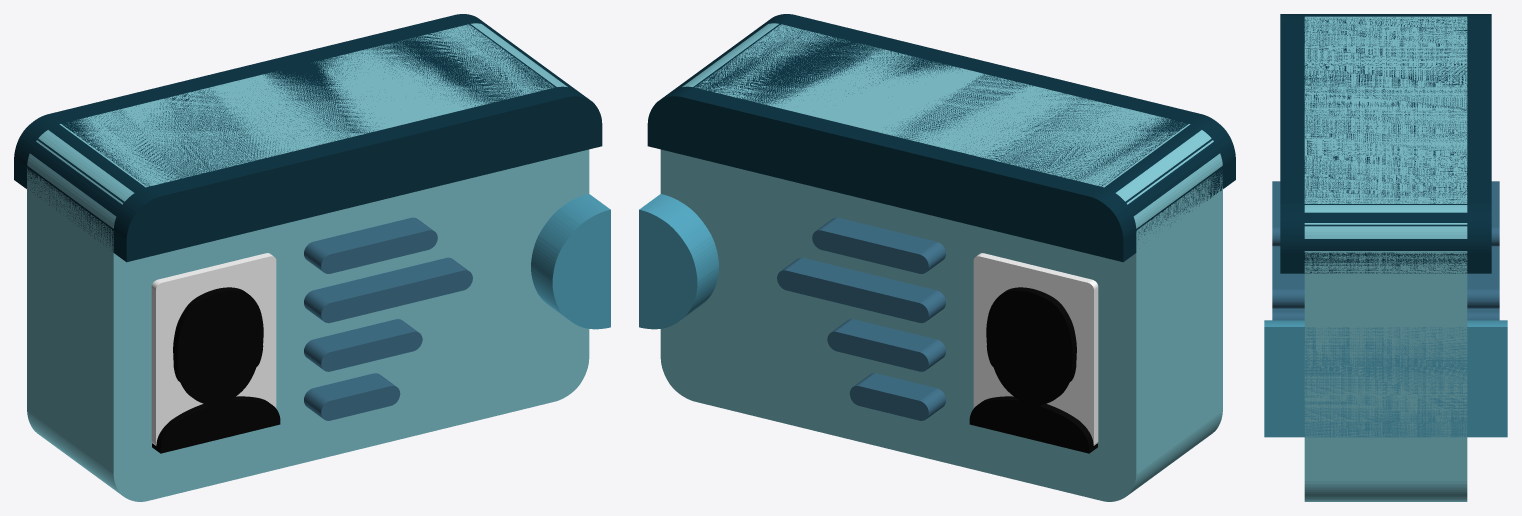
File: U+1FAAA.obj
3 views of the same model, side by side, from view 1: azimuth 30°, elevation 25°; view 2: azimuth 150°, elevation 25°; view 3: azimuth 270°, elevation 25° (orthographic). The views are drawn at different scales.
Visible parts, largest first — view 1: U+1FAAA_layer00_obj00, U+1FAAA_layer03_obj00, U+1FAAA_layer02_obj00, U+1FAAA_layer01_obj00, U+1FAAA_layer05_obj00, U+1FAAA_layer04_obj01, U+1FAAA_layer04_obj00, U+1FAAA_layer04_obj03, U+1FAAA_layer04_obj02; view 2: U+1FAAA_layer00_obj00, U+1FAAA_layer03_obj00, U+1FAAA_layer02_obj00, U+1FAAA_layer01_obj00, U+1FAAA_layer05_obj00, U+1FAAA_layer04_obj01, U+1FAAA_layer04_obj00, U+1FAAA_layer04_obj03, U+1FAAA_layer04_obj02; view 3: U+1FAAA_layer00_obj00, U+1FAAA_layer03_obj00, U+1FAAA_layer05_obj00, U+1FAAA_layer04_obj01, U+1FAAA_layer04_obj00, U+1FAAA_layer04_obj03.
Part boxes in pixels (left/top/right/bottom): U+1FAAA_layer00_obj00: left=27, top=23, right=589, bottom=501; U+1FAAA_layer03_obj00: left=14, top=14, right=602, bottom=262; U+1FAAA_layer02_obj00: left=152, top=287, right=280, bottom=453; U+1FAAA_layer01_obj00: left=151, top=253, right=276, bottom=445; U+1FAAA_layer05_obj00: left=531, top=194, right=610, bottom=329; U+1FAAA_layer04_obj01: left=304, top=257, right=472, bottom=323; U+1FAAA_layer04_obj00: left=304, top=217, right=437, bottom=273; U+1FAAA_layer04_obj03: left=304, top=319, right=422, bottom=371; U+1FAAA_layer04_obj02: left=304, top=373, right=400, bottom=420; U+1FAAA_layer00_obj00: left=660, top=23, right=1222, bottom=501; U+1FAAA_layer03_obj00: left=647, top=14, right=1235, bottom=262; U+1FAAA_layer02_obj00: left=969, top=287, right=1097, bottom=453; U+1FAAA_layer01_obj00: left=973, top=253, right=1098, bottom=445; U+1FAAA_layer05_obj00: left=639, top=194, right=718, bottom=329; U+1FAAA_layer04_obj01: left=777, top=257, right=945, bottom=323; U+1FAAA_layer04_obj00: left=812, top=217, right=945, bottom=273; U+1FAAA_layer04_obj03: left=827, top=319, right=945, bottom=371; U+1FAAA_layer04_obj02: left=849, top=373, right=945, bottom=420; U+1FAAA_layer00_obj00: left=1304, top=16, right=1467, bottom=501; U+1FAAA_layer03_obj00: left=1280, top=14, right=1491, bottom=273; U+1FAAA_layer05_obj00: left=1264, top=320, right=1507, bottom=437; U+1FAAA_layer04_obj01: left=1272, top=246, right=1499, bottom=308; U+1FAAA_layer04_obj00: left=1272, top=181, right=1499, bottom=246; U+1FAAA_layer04_obj03: left=1272, top=308, right=1499, bottom=320.
Size of the model in its own units: 0.3175 by 0.2003 by 0.15.
